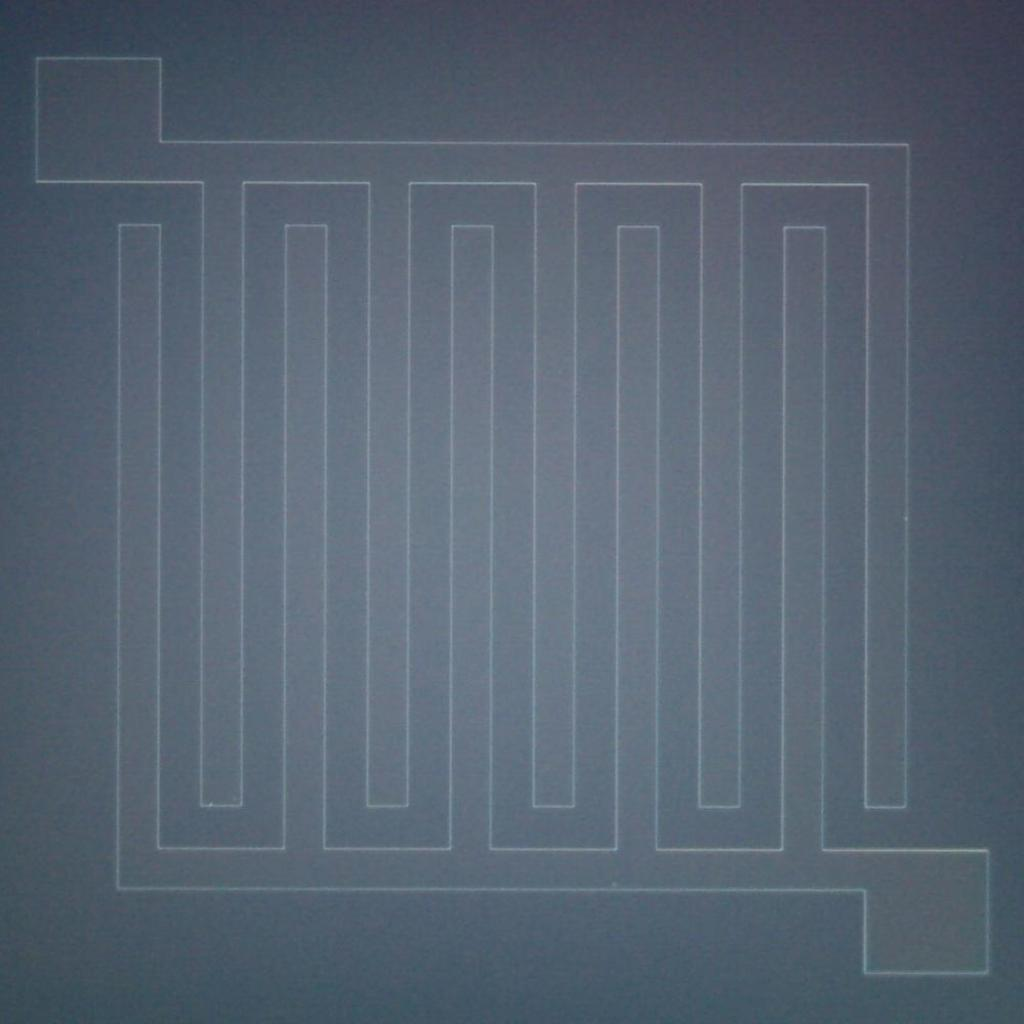dot: (209, 802, 213, 806)
